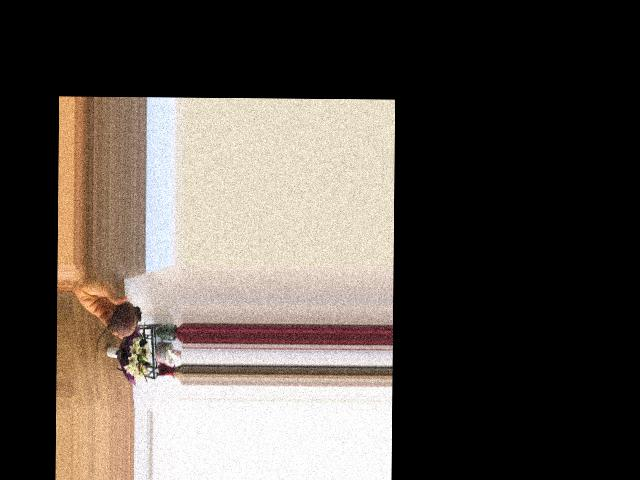beet: (96, 301, 141, 353)
